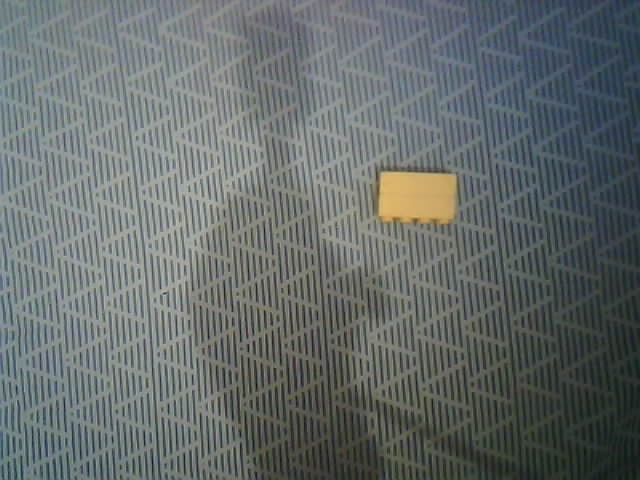lego: (376, 170, 459, 225)
